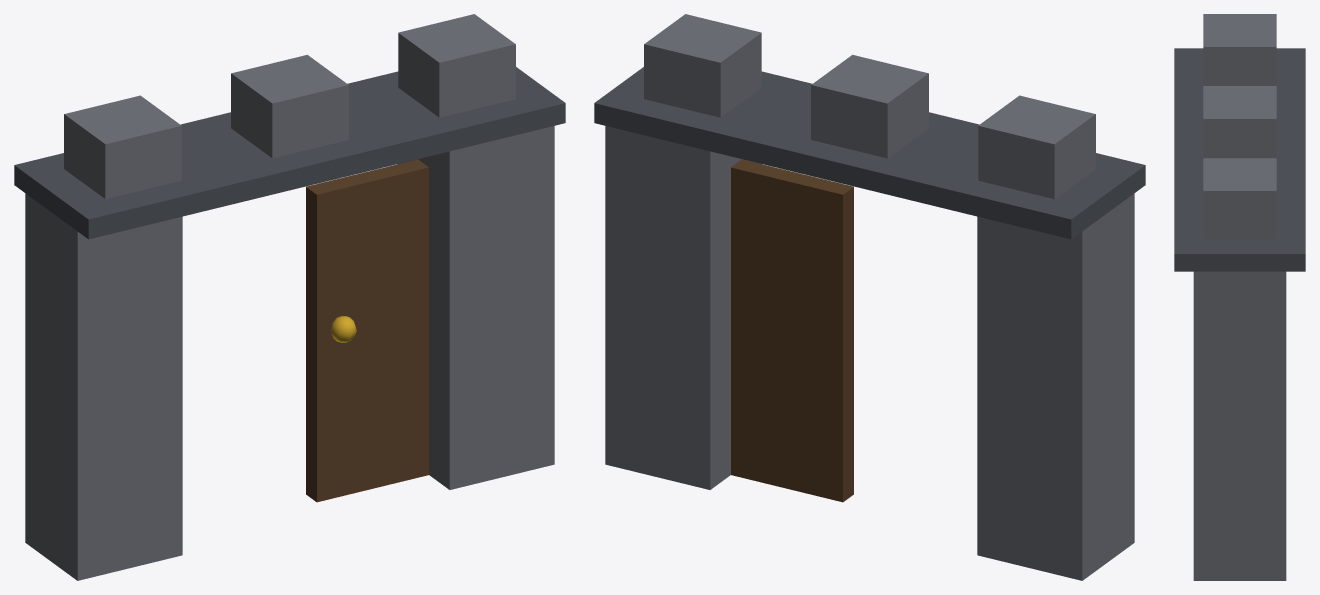
File: wall-door.glb
3 views of the same model, side by side, from view 1: azimuth 30°, elevation 25°; view 2: azimuth 150°, elevation 25°; view 3: azimuth 270°, elevation 25° (orthographic). The views are drawn at different scales.
Bounding box in the file's own units: 1 × 0.85 × 0.27.
